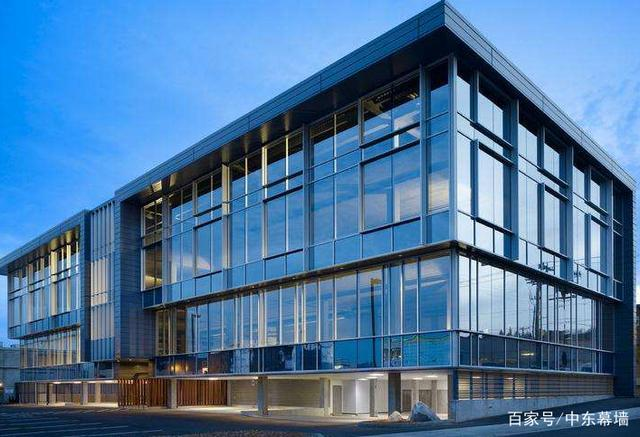buildings: (12, 58, 633, 405)
